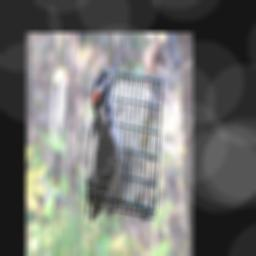Woodpecker: (86, 58, 131, 222)
